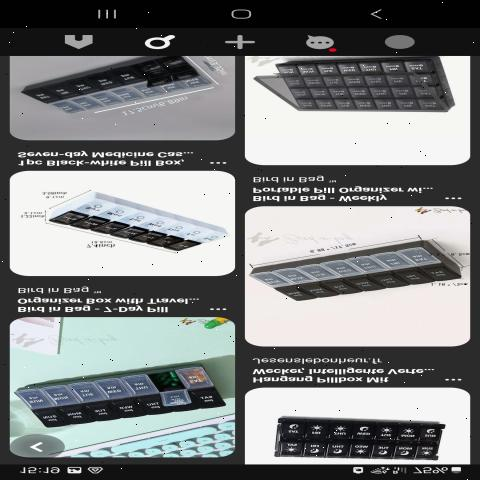PillBox: (255, 227, 463, 312), (31, 178, 233, 260), (13, 357, 230, 433), (24, 58, 234, 119), (258, 415, 462, 461)
